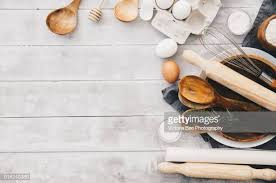Eggs: (160, 60, 183, 82)
